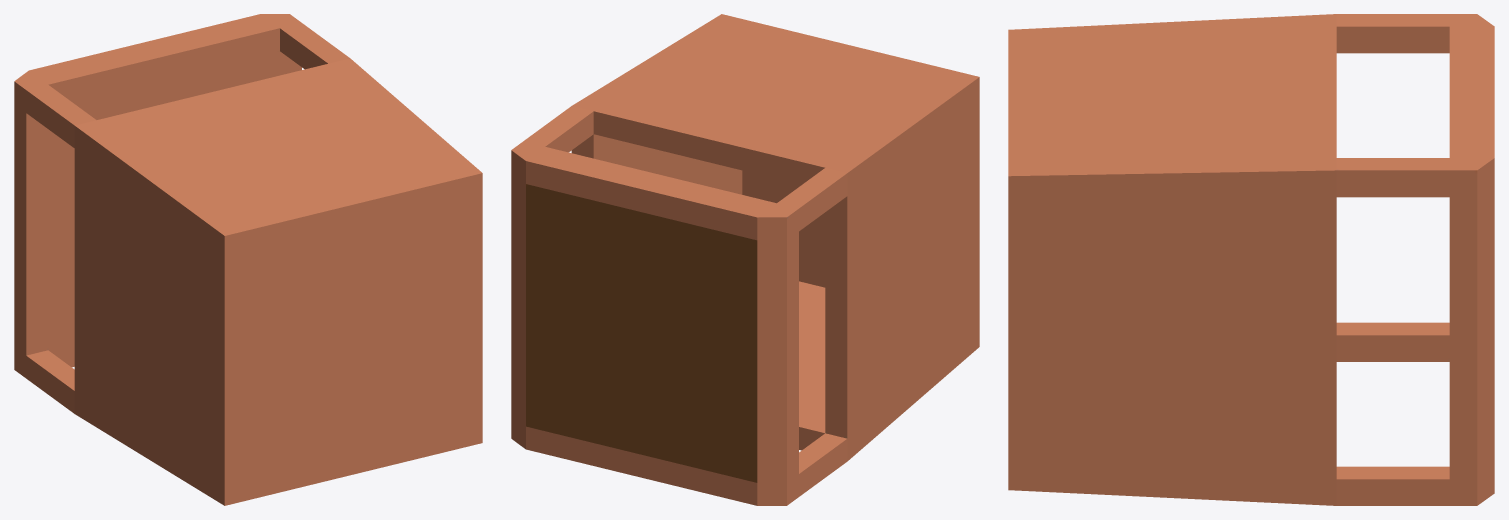
The model's file is trashcan-orange.obj.
3 views of the same model, side by side, from view 1: azimuth 30°, elevation 25°; view 2: azimuth 150°, elevation 25°; view 3: azimuth 270°, elevation 25° (orthographic). The views are drawn at different scales.
Parts seen in each view (by area): view 1: trashcan-orange_Plane.203; view 2: trashcan-orange_Plane.203; view 3: trashcan-orange_Plane.203.
Part boxes in pixels (x1,y1,x2,y2): trashcan-orange_Plane.203: (14,14,482,505); trashcan-orange_Plane.203: (511,14,979,505); trashcan-orange_Plane.203: (1008,14,1494,505).
Size of the model in its own units: 0.9751 by 0.9751 by 1.28.
